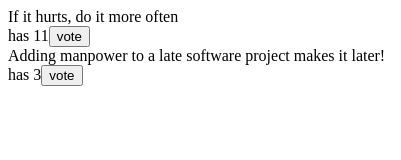
AnecdoteList comp › voting increases the number of votes for an anecdote
# 'If it hurts' has 11 votes, so it is rendered first
Click the button "vote" next to "11": (69, 36) [49,26,90,47]
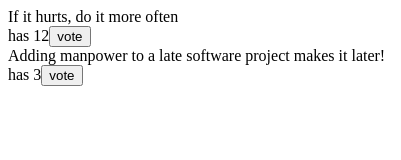
Result: the text "has 12 vote" is shown at [8,26,90,47]
